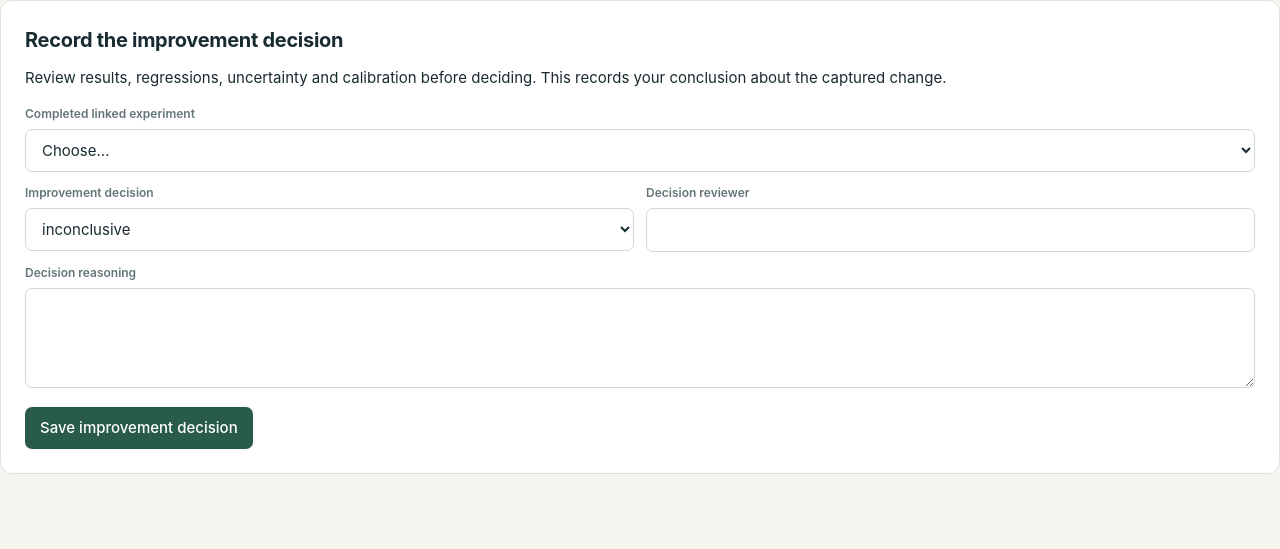
human improvement workflows › Given linked and unrelated experiments, When recording a decision, Then permits only a completed linked experiment and retains human reasoning
The width and height of the screenshot is (1280, 549).
Select "validation · linked-run" in the dropdown labelled "Completed linked experiment" at (640, 150), box [25,128,1255,172]
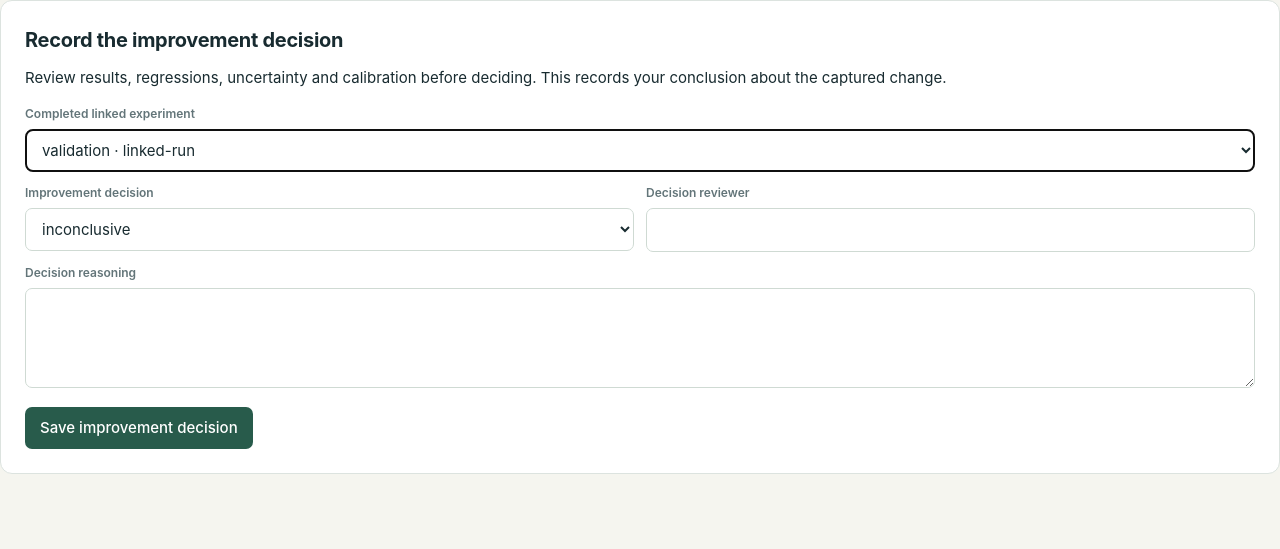
Select "reject" in the dropdown labelled "Improvement decision" at (330, 230), box [25,208,634,251]
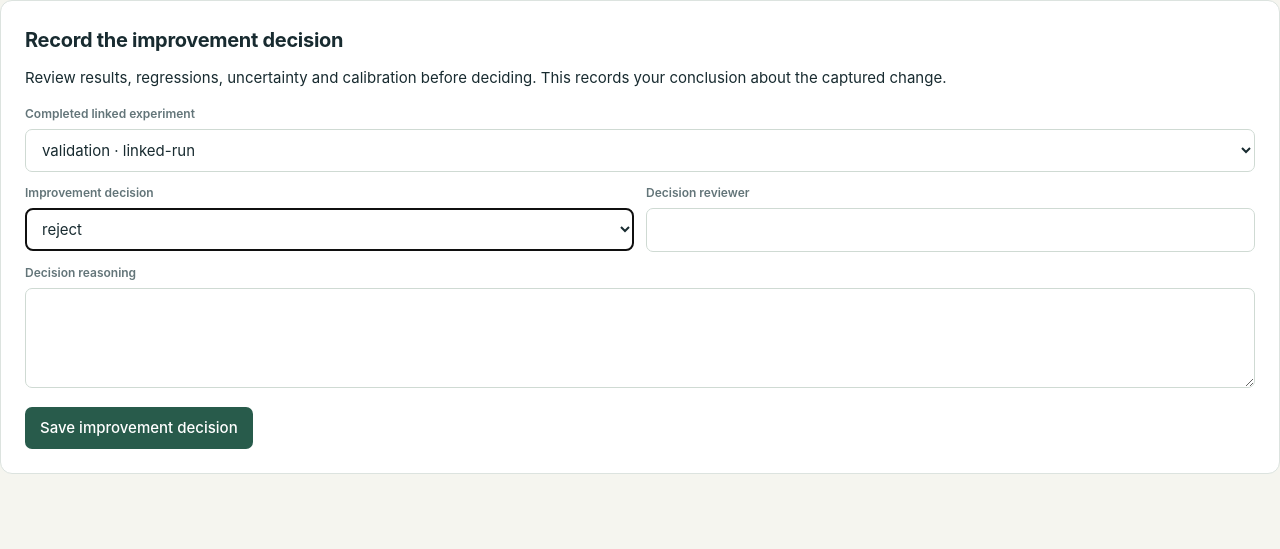
Type "Owner" into the field labelled "Decision reviewer" at (950, 230), box [646,208,1255,252]
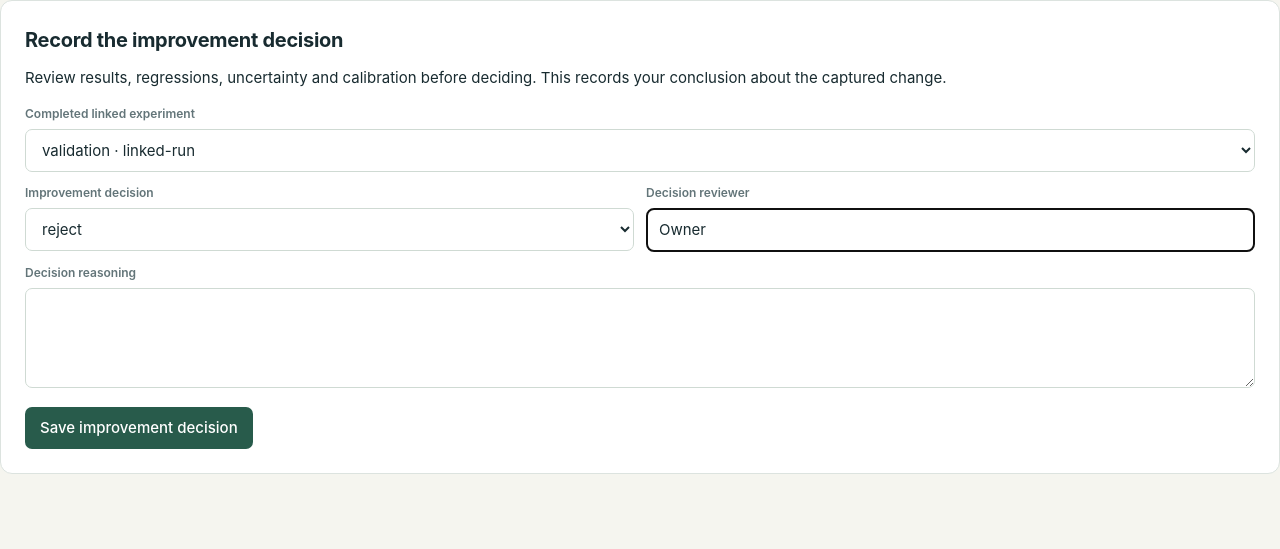
Type "Regressed clarification on fresh cases." into the text box labelled "Decision reasoning" at (640, 338), box [25,288,1255,388]
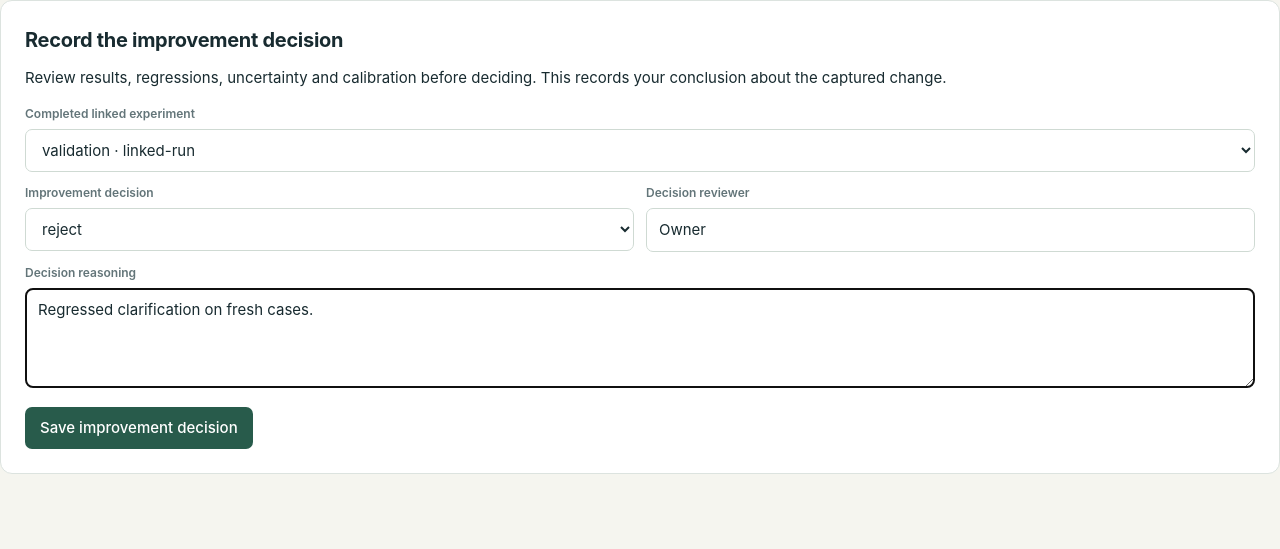
Click the button "Save improvement decision" at (139, 428), box [25,406,253,449]
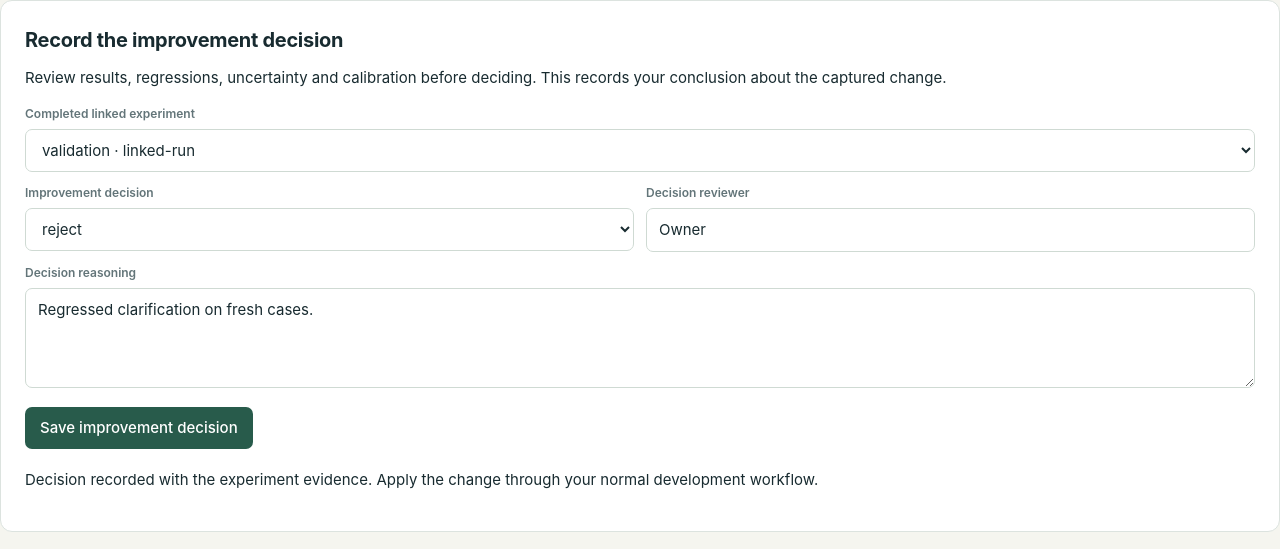
Expected: the text "Decision recorded with the experiment evidence. Apply the change through your normal development workflow." is shown, [25,470,818,489]
